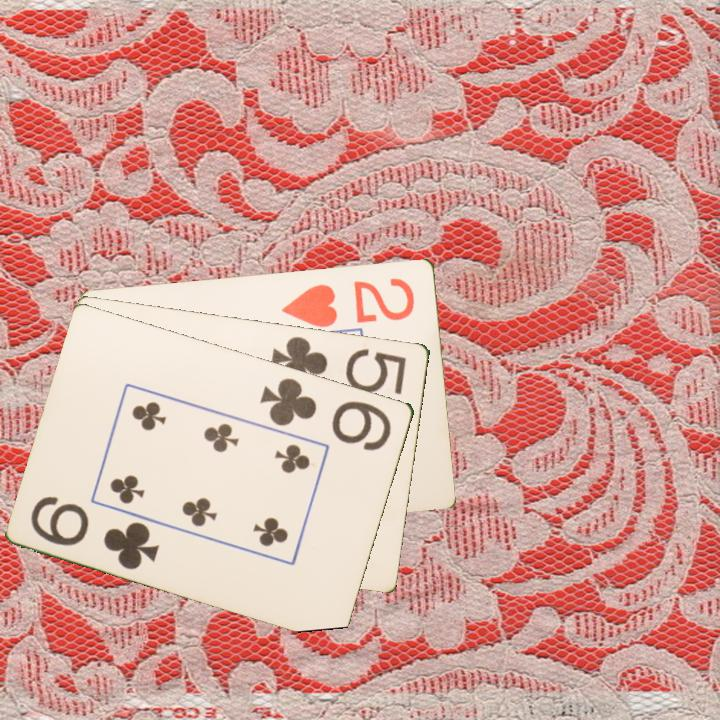2h: (278, 273, 418, 330)
5c: (267, 332, 410, 397)
6c: (257, 374, 395, 454), (27, 492, 163, 573)
